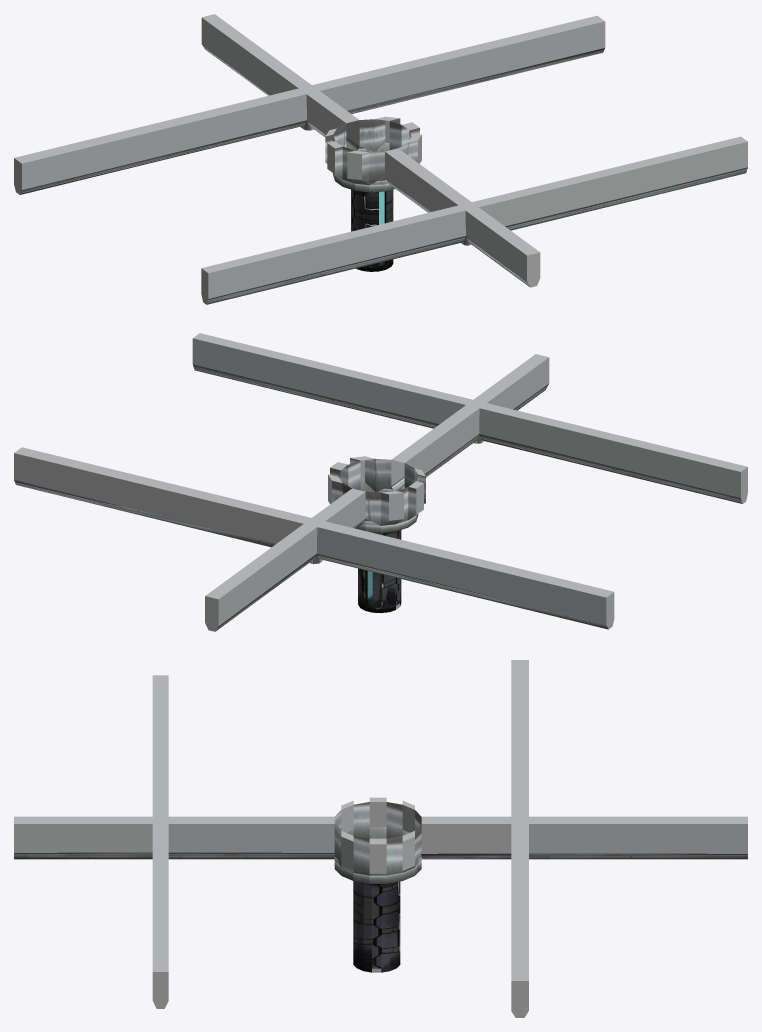
File: MainRoomDecor.fbx
3 renders of one model, top to bottom at view 1: azimuth 30°, elevation 25°; view 2: azimuth 150°, elevation 25°; view 3: azimuth 270°, elevation 25°, orthographic. The views are drawn at different scales.
Visible parts, largest first — view 1: Circle.021, Circle.020; view 2: Circle.021, Circle.020; view 3: Circle.021, Circle.020.
Boxes of the visible parts, box(x1,y1,x2,y2) form: Circle.021: box(14, 14, 747, 304); Circle.020: box(351, 189, 393, 271); Circle.021: box(14, 333, 747, 631); Circle.020: box(358, 530, 401, 612); Circle.021: box(14, 660, 747, 1017); Circle.020: box(353, 881, 400, 972).
Size of the model in its own units: 127 by 26.32 by 123.
